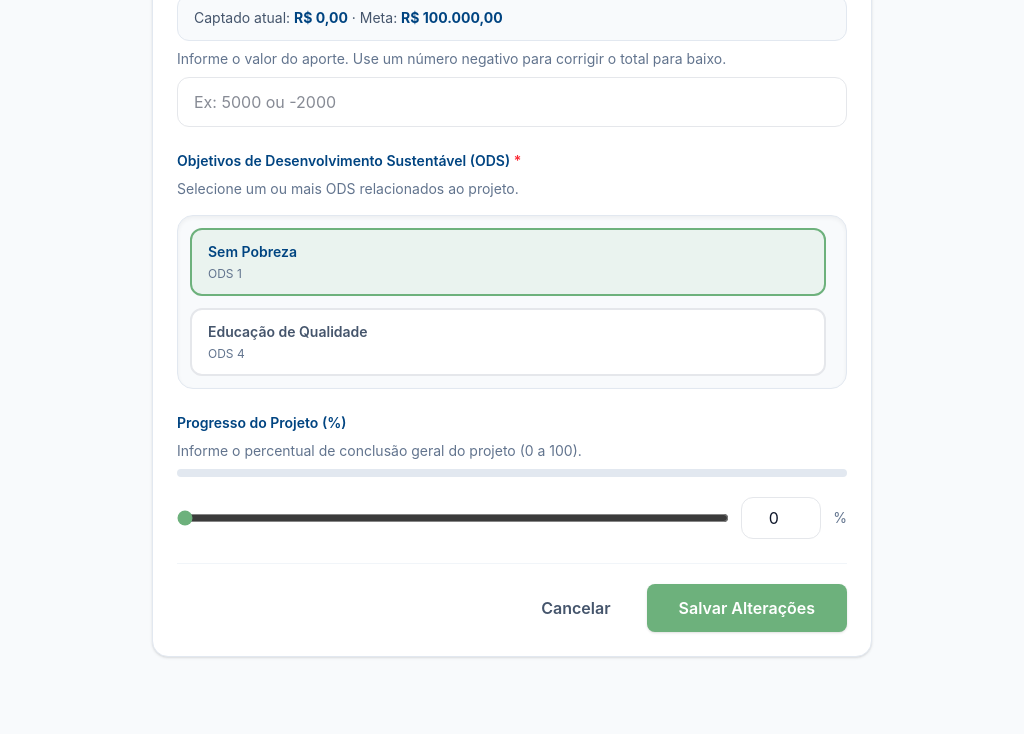
Test case: EditProjectPage › unhappy path: preserva dados do formulário e exibe erro genérico em falha de API
(page scrolled)
Click the button "Salvar Alterações" at x=747, y=608, box [646,584,847,632]
(page scrolled)
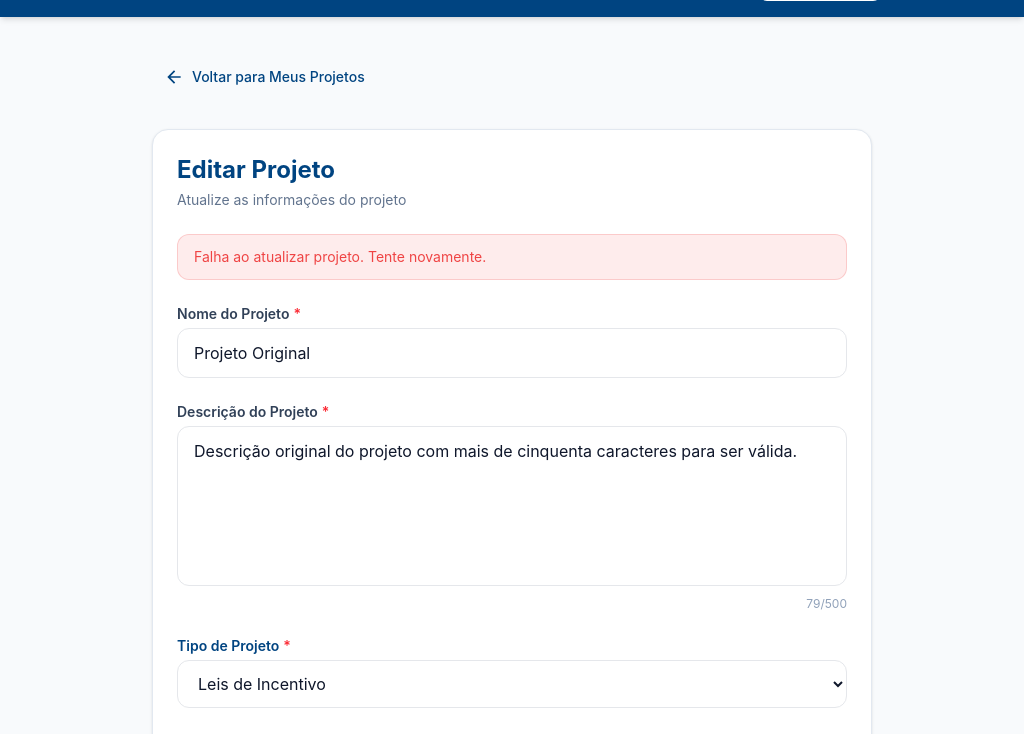
Check: the field showing "Projeto Original" is shown, box [177,328,847,378]
Check: the text "Falha ao atualizar projeto. Tente novamente." is shown, box [177,234,847,280]
